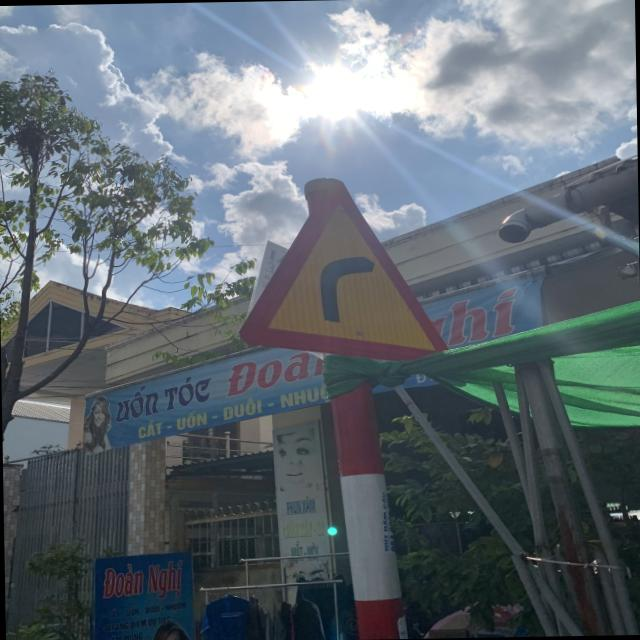Duong_Nguoi_Di_Bo_Cat_Ngang: (237, 178, 453, 364)
